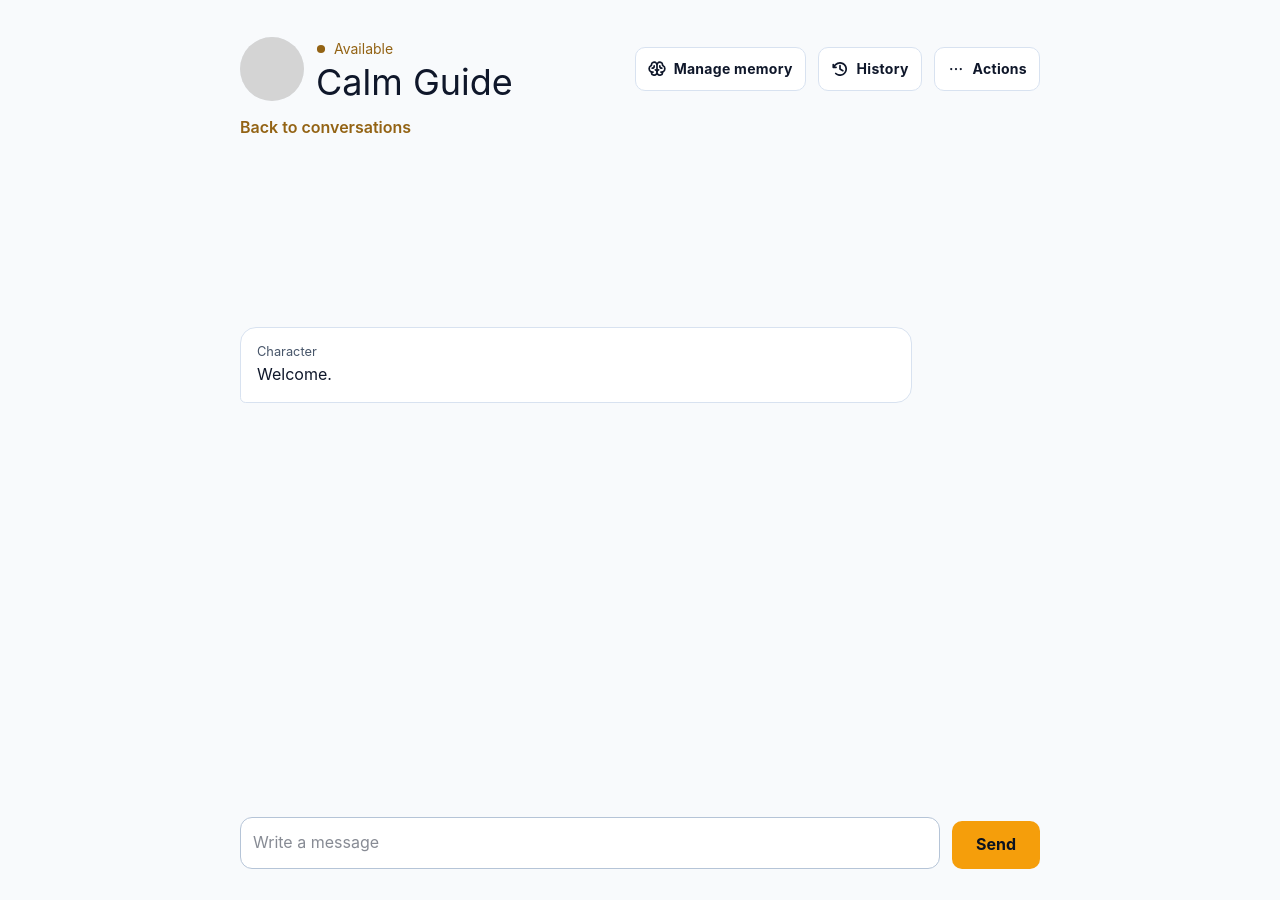
Scenario: conversation actions open separately and visually separate destructive work
The image size is (1280, 900).
Click the button with aria-label "Open conversation actions" at (987, 70), box [934,48,1040,92]
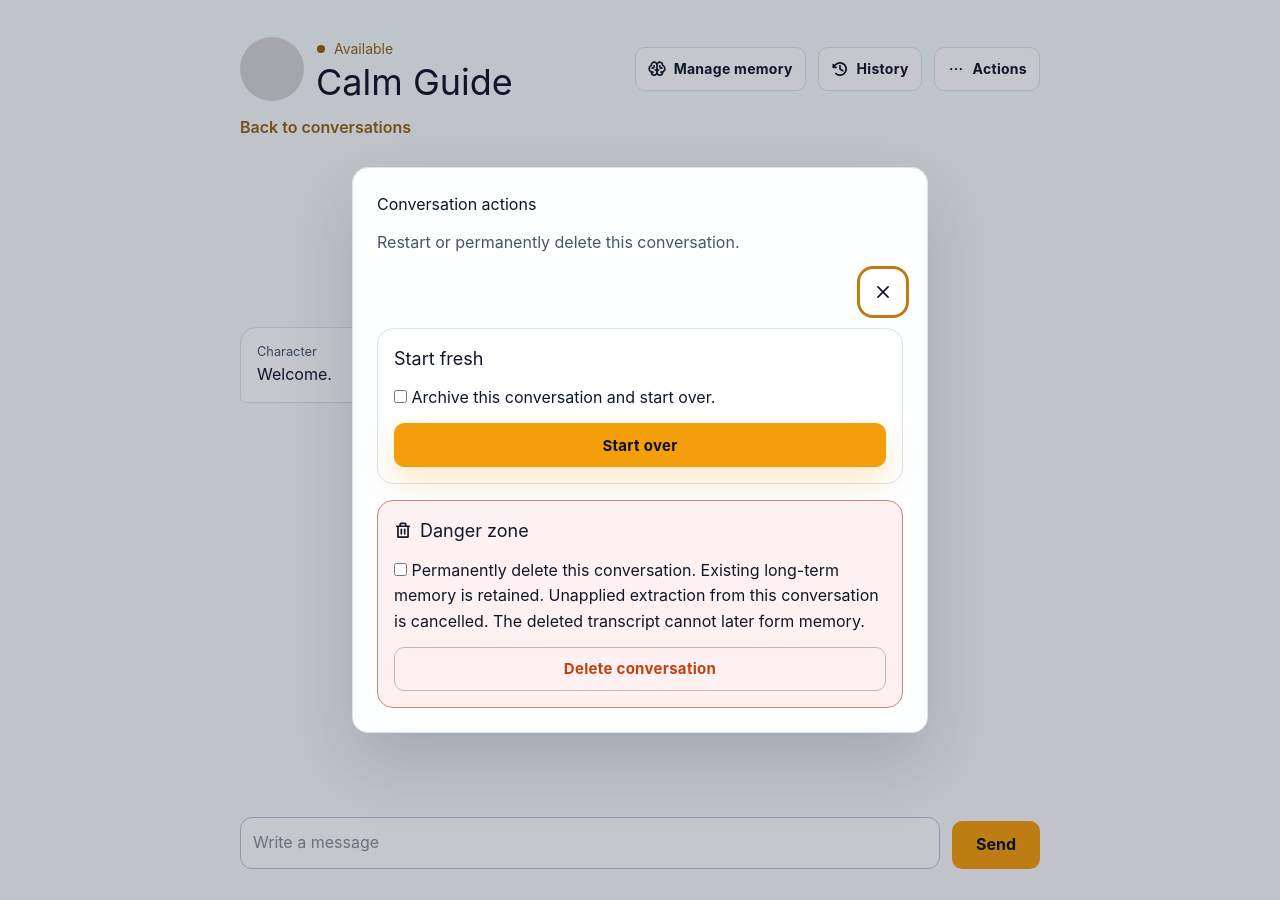
Check: the dialog "Conversation actions" is shown, box [352,167,928,733]
